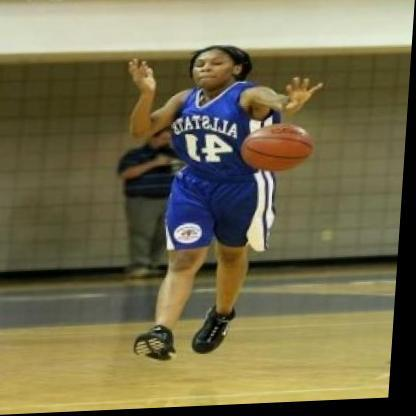basketball: (243, 125, 315, 175)
